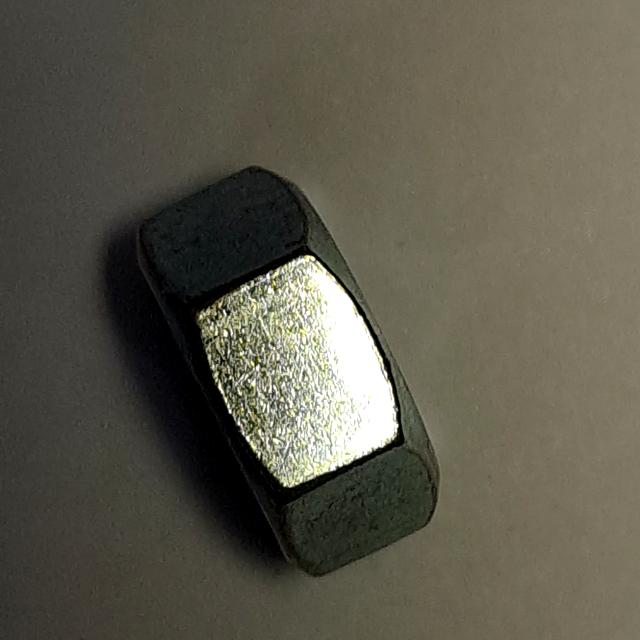Side_Excellent: (121, 154, 457, 590)
